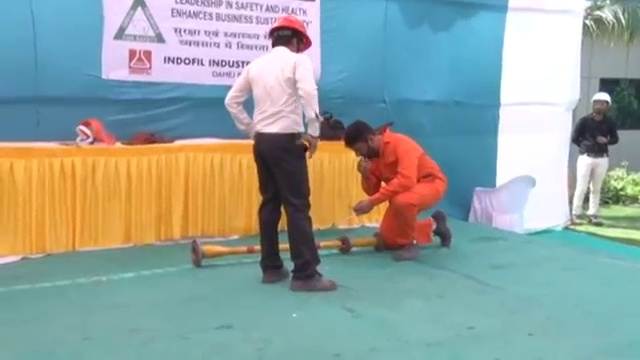helmet: (266, 15, 313, 50), (590, 91, 613, 107)
helmet_off: (343, 119, 381, 155)
helmet_on: (265, 15, 314, 57), (589, 90, 613, 120)
person: (223, 14, 338, 295), (341, 117, 452, 265), (571, 90, 619, 227)
